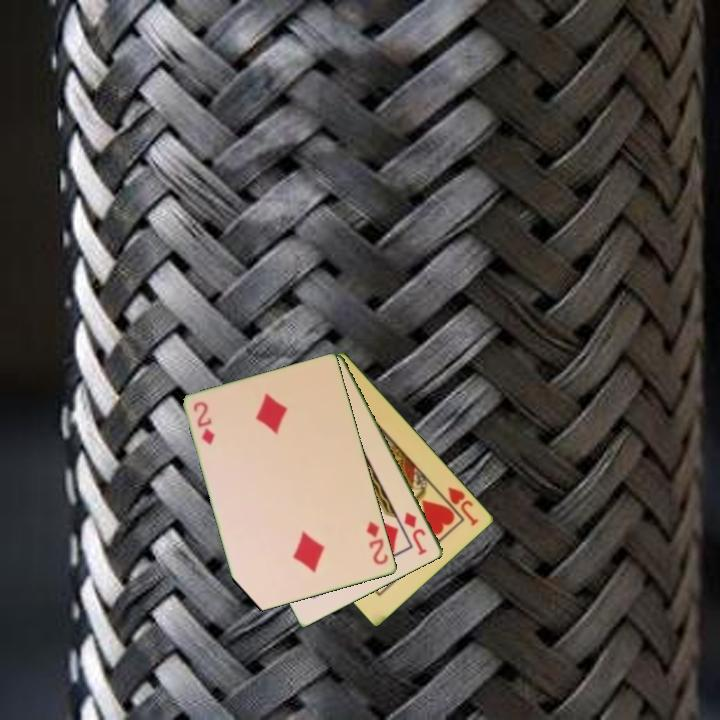2d: (363, 518, 391, 568), (190, 398, 218, 448)
Jd: (400, 509, 430, 558)
Jh: (436, 483, 482, 529)
